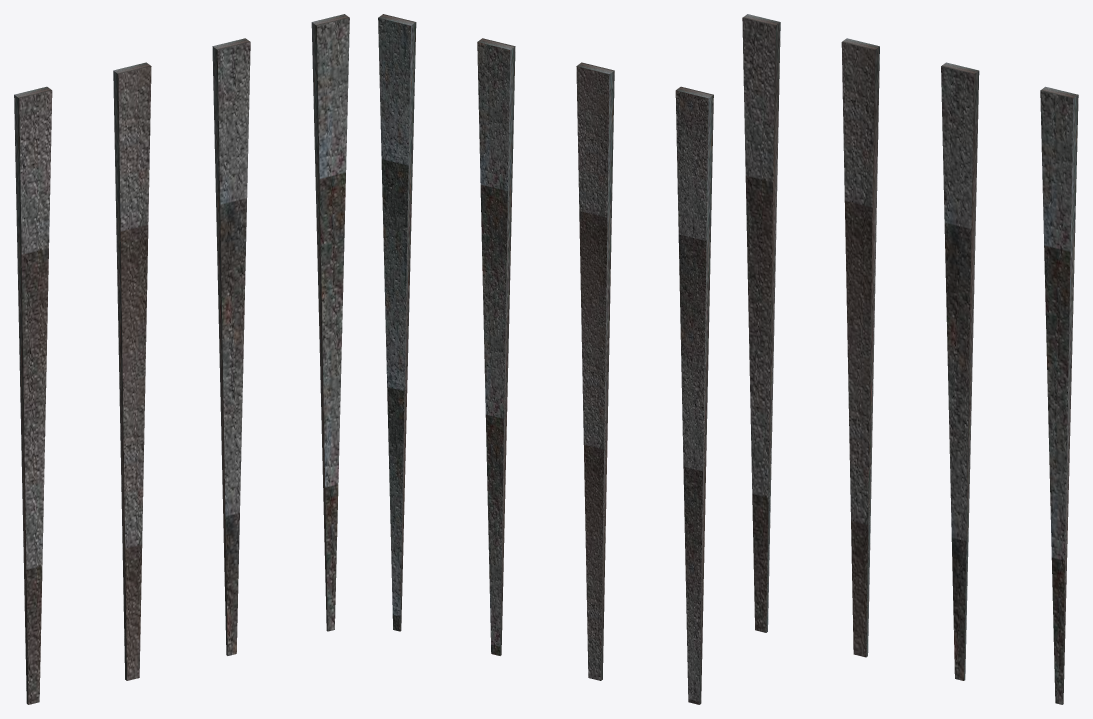
File: Tot Tepi.dae
3 views of the same model, side by side, from view 1: azimuth 30°, elevation 25°; view 2: azimuth 150°, elevation 25°; view 3: azimuth 330°, elevation 25° (orthographic).
Parts seen in each view (by area): view 1: Cube; view 2: Cube; view 3: Cube.
Boxes of the visible parts, box(x1,y1,x2,y2) form: Cube: box(14, 14, 349, 704); Cube: box(378, 14, 713, 704); Cube: box(742, 14, 1078, 704).
Bounding box in the file's own units: 3.14 × 0.0849 × 5.54.
Materials: 1 (1 with a texture image).
